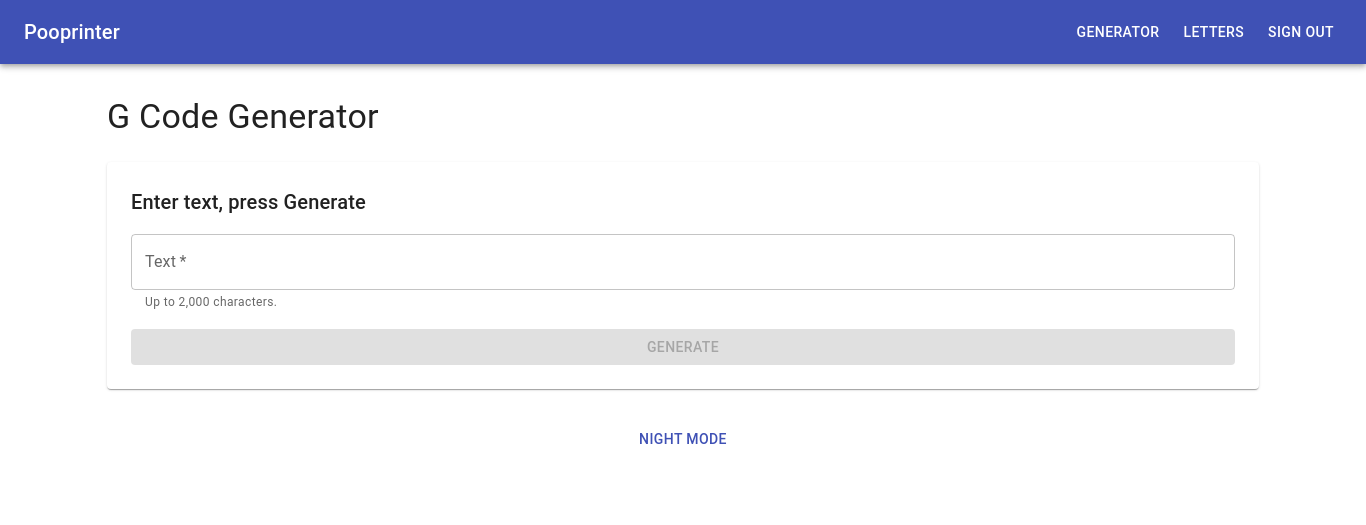
application smoke tests › shows a failed SVG request and allows another attempt
In the field labelled "Text *": (683,262) [131,234,1235,290], type "Hello"
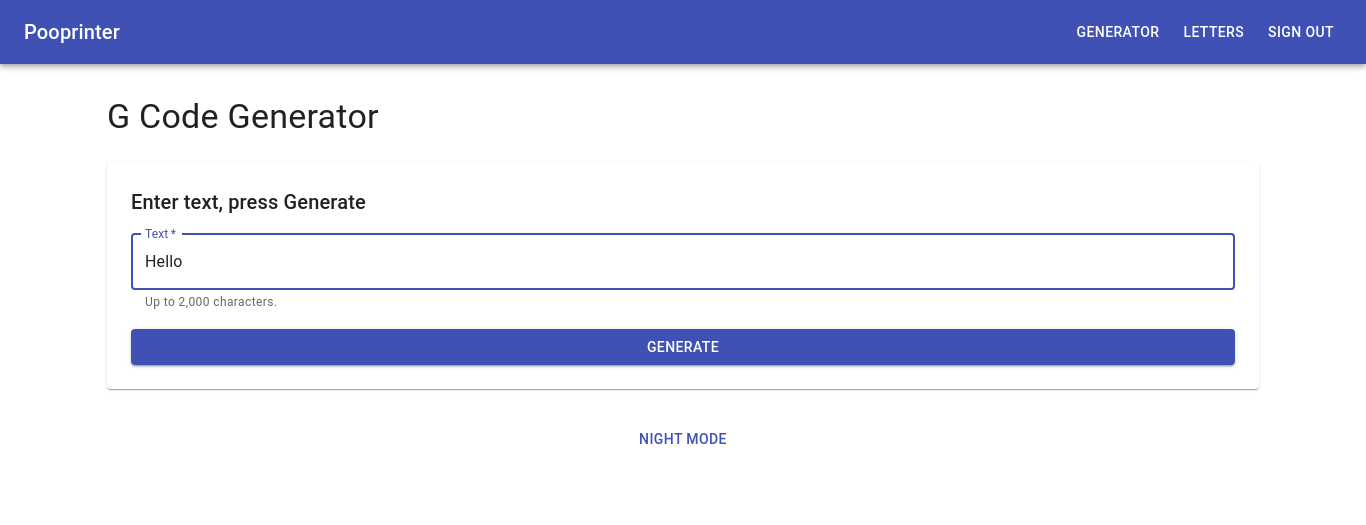
Click the button "Generate": (683,347) [131,329,1235,365]
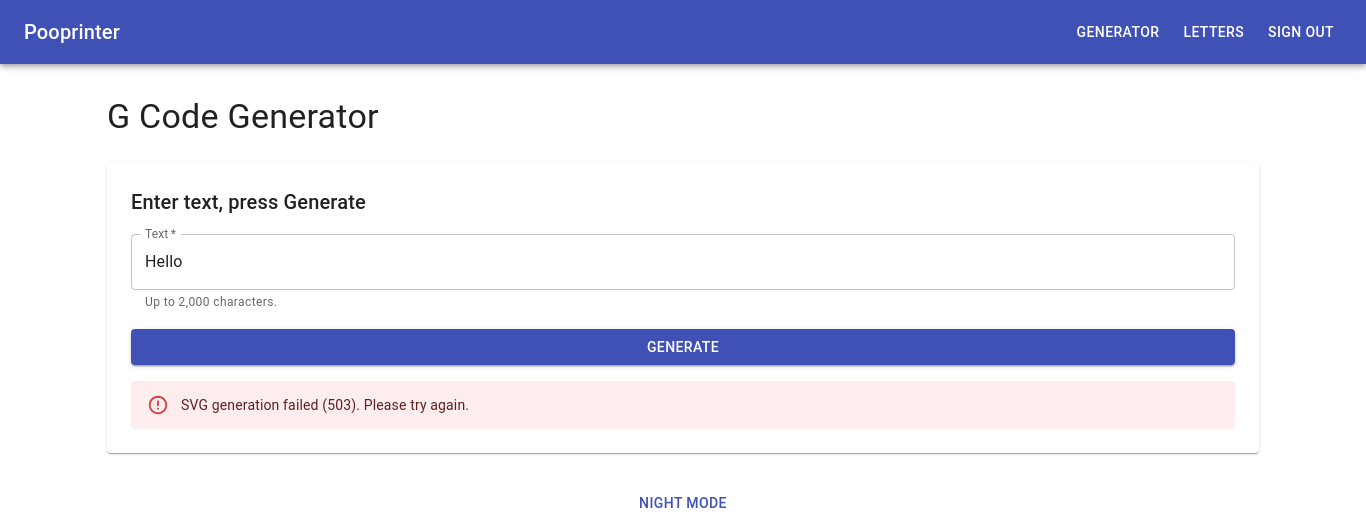
Check: the button "Generate" is enabled, box [131,329,1235,365]
Check: the message shows "SVG generation failed (503)", box [181,397,469,413]
